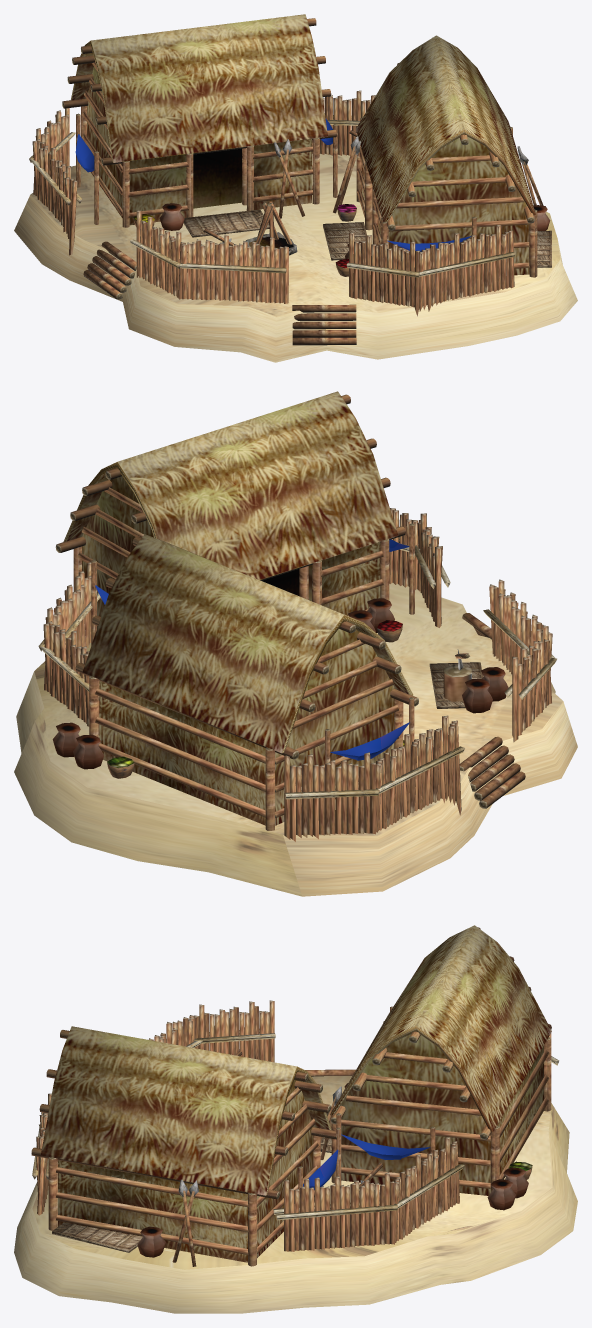
The model's file is kapripona.dae.
3 renders of one model, top to bottom at view 1: azimuth 30°, elevation 25°; view 2: azimuth 150°, elevation 25°; view 3: azimuth 270°, elevation 25°, orthographic. The views are drawn at different scales.
Parts seen in each view (by area): view 1: kapripona; view 2: kapripona; view 3: kapripona.
Boxes of the visible parts, box(x1,y1,x2,y2) form: kapripona: box(14, 14, 577, 362); kapripona: box(14, 391, 577, 896); kapripona: box(14, 925, 577, 1313).
Bounding box in the file's own units: 24.24 × 27.08 × 11.24.
